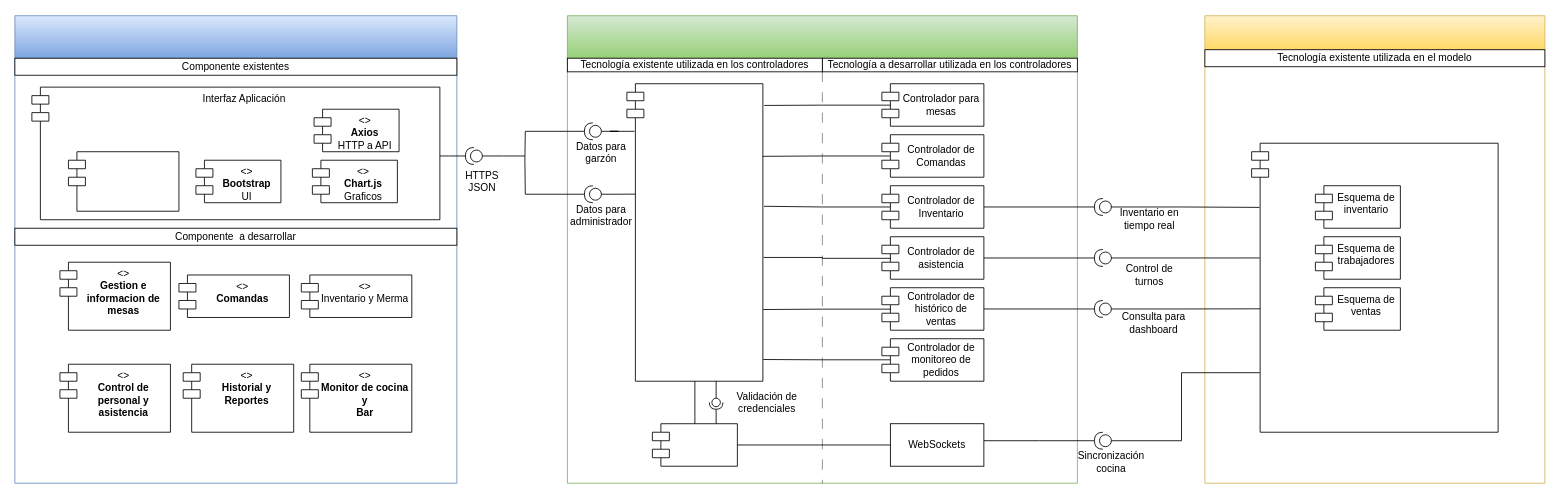
Image size: 1560x499. Some labels were removed from this diagram. The box of each missing label's shape, as (x1, y1, x2, y2) in pixels:
<> Socket.io client sincronización comandas: (68, 151, 179, 211)
API Rest (Servidor Express ): (626, 83, 763, 381)
Capa Controladores < Node.js, Express,js> Google Cloud Run: (567, 15, 1077, 483)
Capa de datos < SQL > Cloud SQL: (1204, 15, 1545, 483)
Capa Vista < HTML, CSS, JavaScript > Firebase Hosting: (14, 15, 457, 483)
Gestor de Seguridad: (652, 423, 737, 466)
Sistema de base de datos transaccional: (1251, 142, 1498, 432)
